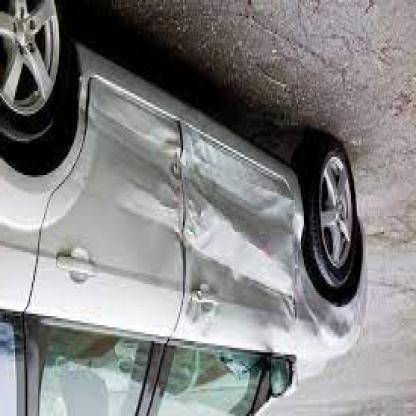dent: (186, 184, 298, 277), (158, 122, 192, 178), (306, 310, 352, 342)
